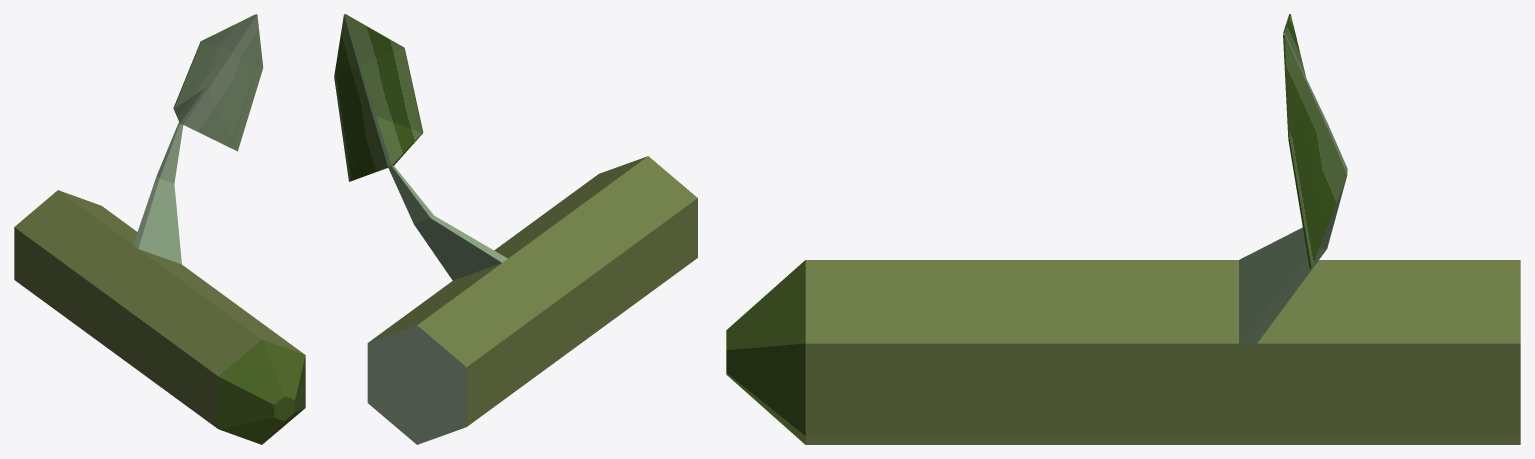
Rendered from Stem-Straight-01.fbx.
3 views of the same model, side by side, from view 1: azimuth 30°, elevation 25°; view 2: azimuth 150°, elevation 25°; view 3: azimuth 270°, elevation 25° (orthographic). The views are drawn at different scales.
Parts seen in each view (by area): view 1: Stem-straight-01; view 2: Stem-straight-01; view 3: Stem-straight-01.
Boxes of the visible parts, <box> form: Stem-straight-01: <box>14,14,305,444</box>; Stem-straight-01: <box>334,14,697,444</box>; Stem-straight-01: <box>726,14,1520,444</box>.
Size of the model in its own units: 25.87 by 40.42 by 55.54.
1 material, 1 textured.
